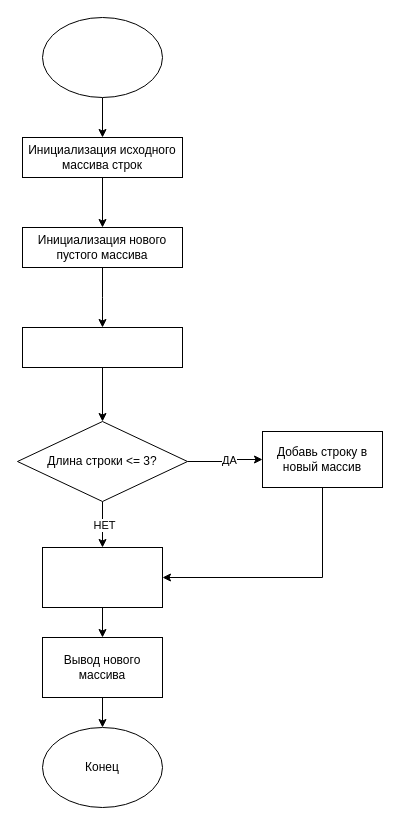
This 400x825 diagram has some shape labels left out. Here are the shapes that lost their labels. From the top down, the centre of each, then its label:
the point at 102,57: Старт
the point at 102,347: Цикл по каждому элементу исходного массива
the point at 102,577: Конец цикла по элементам
